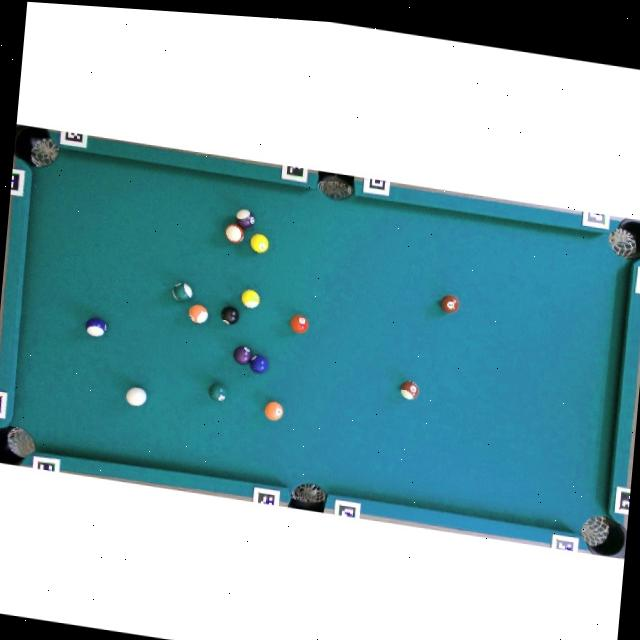cue ball: (125, 385, 146, 407)
other: (84, 316, 108, 338), (248, 231, 270, 254), (171, 280, 193, 303), (207, 381, 229, 403), (262, 399, 284, 421), (234, 208, 256, 230), (187, 302, 208, 324), (439, 293, 460, 315), (223, 222, 244, 244), (240, 287, 260, 310), (288, 313, 308, 335), (399, 379, 419, 400), (220, 304, 240, 325), (248, 353, 268, 374), (232, 345, 252, 365)
